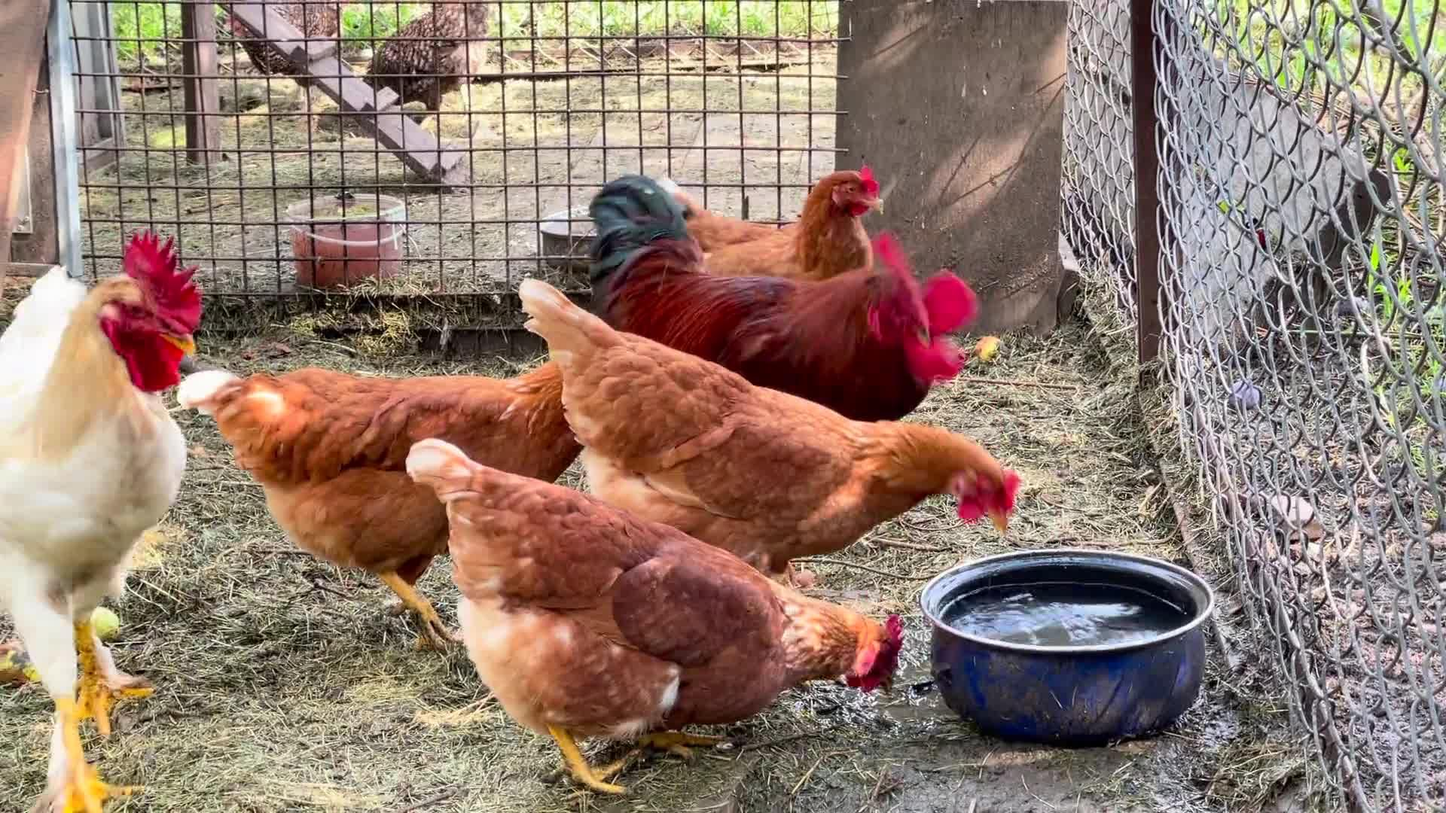Normal: (411, 437, 905, 786), (522, 281, 1024, 578), (4, 224, 210, 813), (207, 352, 566, 649), (607, 179, 977, 422), (661, 172, 905, 286)
